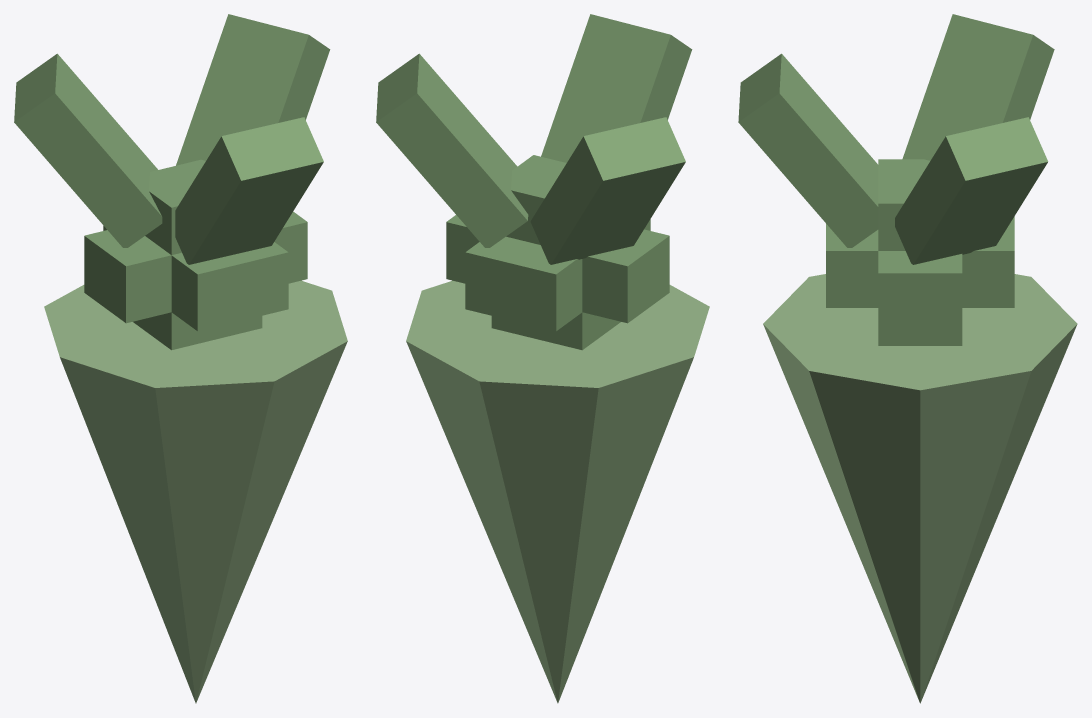
The model's file is Food_Vegetables.glb.
The picture shows the model from 3 angles, left to right: view 1: azimuth 30°, elevation 25°; view 2: azimuth 150°, elevation 25°; view 3: azimuth 270°, elevation 25°; orthographic projection.
Parts seen in each view (by area): view 1: geometry_0; view 2: geometry_0; view 3: geometry_0.
Boxes of the visible parts, <box> form: geometry_0: <box>14,14,347,703</box>; geometry_0: <box>376,14,709,703</box>; geometry_0: <box>738,14,1077,703</box>.
Size of the model in its own units: 0.584 by 1.13 by 0.5498.
